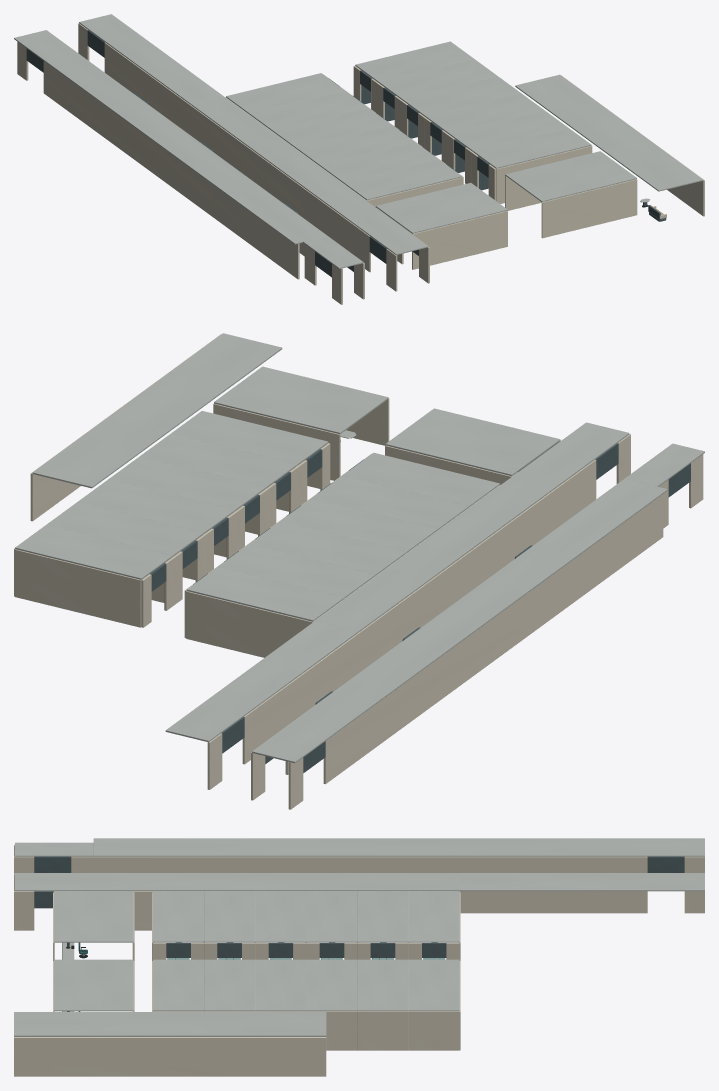
File: SOL_D05_directory_01_remaining_batch.glb
3 views of the same model, one above another, from view 1: azimuth 30°, elevation 25°; view 2: azimuth 150°, elevation 25°; view 3: azimuth 270°, elevation 25° (orthographic). The views are drawn at different scales.
Parts seen in each view (by area): view 1: A_soiled_ceiling, A_soiled_back_edge_pier1, A_Service_separator_-46_pier1, A_clean_ceiling, A_New_admission_ceiling, A_clean_fore_ceiling, A_clinical_staff_control_ceiling, A_telemedicine_ceiling, A_clinical_staff_control_back, A_telemedicine_back, A_Q12_ceiling, A_Q6_ceiling (+15 smaller); view 2: A_soiled_ceiling, A_soiled_back_edge_pier1, A_Service_separator_-46_pier1, A_clean_ceiling, A_New_admission_ceiling, A_clean_fore_ceiling, A_telemedicine_ceiling, A_clinical_staff_control_ceiling, A_Q7_start, A_Q1_start, A_Q1_ceiling, A_Q7_ceiling (+16 smaller); view 3: A_New_admission_outer_pier0, A_soiled_ceiling, A_Service_separator_-50_pier1, A_clean_ceiling, A_New_admission_ceiling, A_clean_fore_ceiling, A_Service_separator_-46_pier1, A_clinical_staff_control_ceiling, A_telemedicine_ceiling, A_Q8_ceiling, A_Q7_ceiling, A_Q9_ceiling (+20 smaller).
Part boxes in pixels (x1,y1,x2,y2): A_soiled_ceiling: (14, 30, 326, 244); A_soiled_back_edge_pier1: (43, 61, 299, 279); A_Service_separator_-46_pier1: (104, 42, 370, 272); A_clean_ceiling: (192, 96, 428, 255); A_New_admission_ceiling: (515, 74, 703, 191); A_clean_fore_ceiling: (79, 14, 223, 105); A_clinical_staff_control_ceiling: (505, 151, 636, 201); A_telemedicine_ceiling: (376, 183, 507, 233); A_clinical_staff_control_back: (541, 179, 637, 238); A_telemedicine_back: (412, 210, 507, 269); A_Q12_ceiling: (473, 127, 591, 168); A_Q6_ceiling: (343, 159, 461, 200); A_soiled_ceiling: (252, 478, 667, 763); A_soiled_back_edge_pier1: (323, 494, 663, 784); A_Service_separator_-46_pier1: (242, 459, 596, 764); A_clean_ceiling: (315, 422, 629, 632); A_New_admission_ceiling: (32, 333, 282, 488); A_clean_fore_ceiling: (165, 621, 358, 742); A_telemedicine_ceiling: (385, 408, 560, 476); A_clinical_staff_control_ceiling: (214, 366, 388, 434); A_Q7_start: (14, 549, 141, 627); A_Q1_start: (186, 591, 312, 657); A_Q1_ceiling: (186, 567, 343, 621); A_Q7_ceiling: (15, 525, 172, 579); A_New_admission_outer_pier0: (14, 1037, 326, 1076); A_soiled_ceiling: (93, 838, 704, 856); A_Service_separator_-50_pier1: (71, 856, 647, 872); A_clean_ceiling: (15, 873, 459, 891); A_New_admission_ceiling: (14, 1012, 326, 1036); A_clean_fore_ceiling: (459, 873, 704, 891); A_Service_separator_-46_pier1: (459, 891, 647, 913); A_clinical_staff_control_ceiling: (54, 959, 133, 1011); A_telemedicine_ceiling: (54, 891, 133, 942); A_Q8_ceiling: (357, 959, 408, 1011); A_Q7_ceiling: (408, 959, 459, 1011); A_Q9_ceiling: (306, 959, 357, 1011).
Bounding box in the file's own units: 45.9 × 4.34 × 67.6.
Materials: 206 (206 with a texture image).
